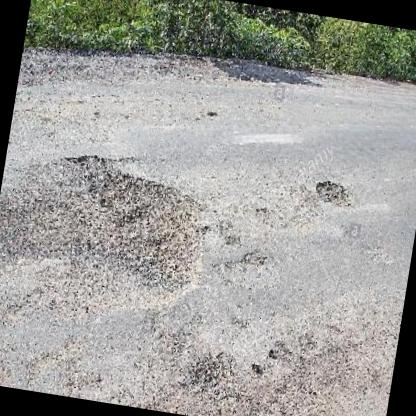pothole: (41, 146, 214, 310), (310, 174, 356, 212), (264, 337, 294, 362), (238, 247, 270, 268), (246, 360, 264, 376), (204, 106, 219, 119)
